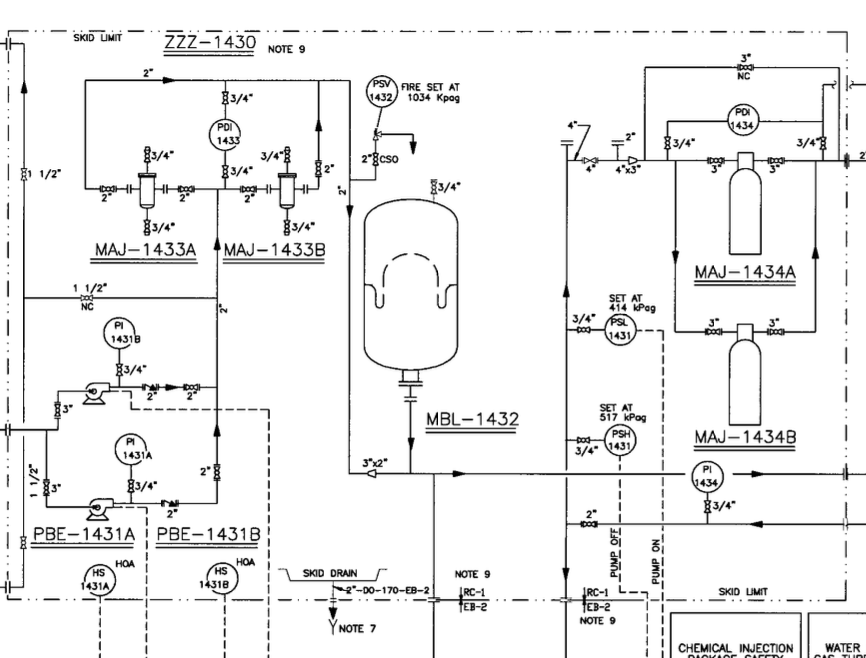Instrument-offset: (108, 422, 155, 469), (101, 314, 152, 353), (719, 99, 765, 139), (357, 71, 403, 110), (597, 312, 641, 349), (205, 115, 247, 152), (687, 456, 726, 495), (604, 420, 642, 459)
